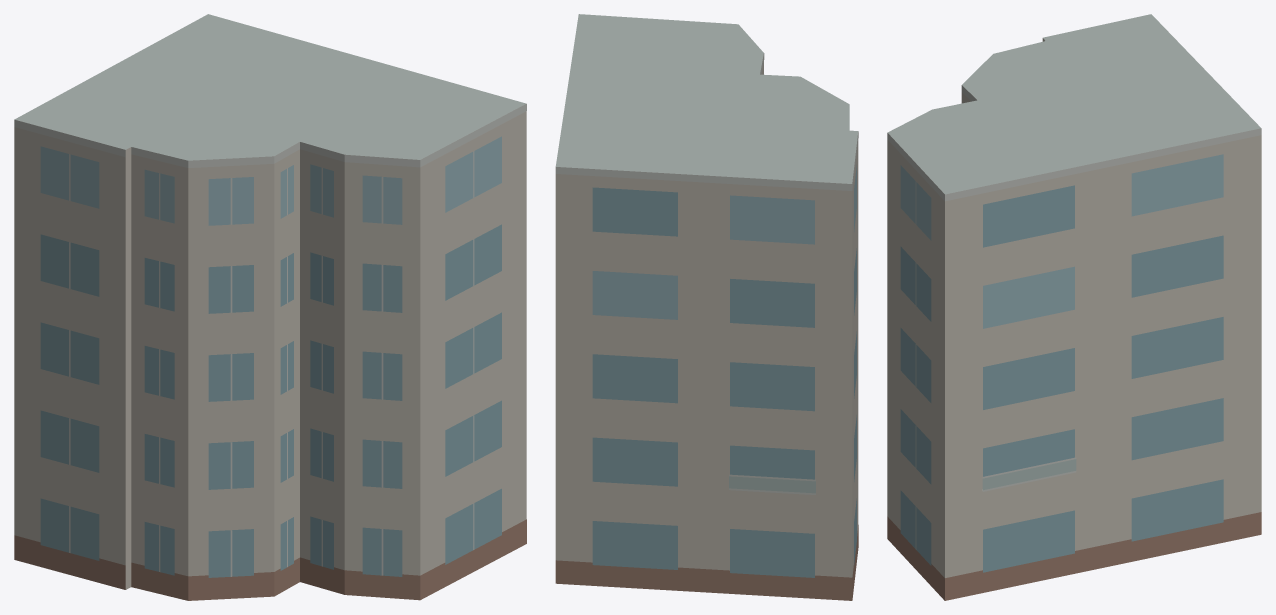
The model's file is survey-upis-32778556.glb.
The picture shows the model from 3 angles, left to right: view 1: azimuth 30°, elevation 25°; view 2: azimuth 150°, elevation 25°; view 3: azimuth 270°, elevation 25°; orthographic projection. The views are drawn at different scales.
Visible parts, largest first — view 1: survey-upis-32778556.tmp; view 2: survey-upis-32778556.tmp; view 3: survey-upis-32778556.tmp.
Part boxes in pixels (x1,y1,x2,y2): survey-upis-32778556.tmp: (14,14,526,600); survey-upis-32778556.tmp: (555,14,858,600); survey-upis-32778556.tmp: (887,14,1261,600).
Bounding box in the file's own units: 13.77 × 14.45 × 12.06.
